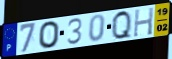0: (87, 14, 108, 44)
3: (66, 17, 84, 46)
7: (19, 21, 38, 54)
H: (132, 6, 155, 38)
O: (38, 20, 61, 50)
Q: (111, 9, 133, 41)
